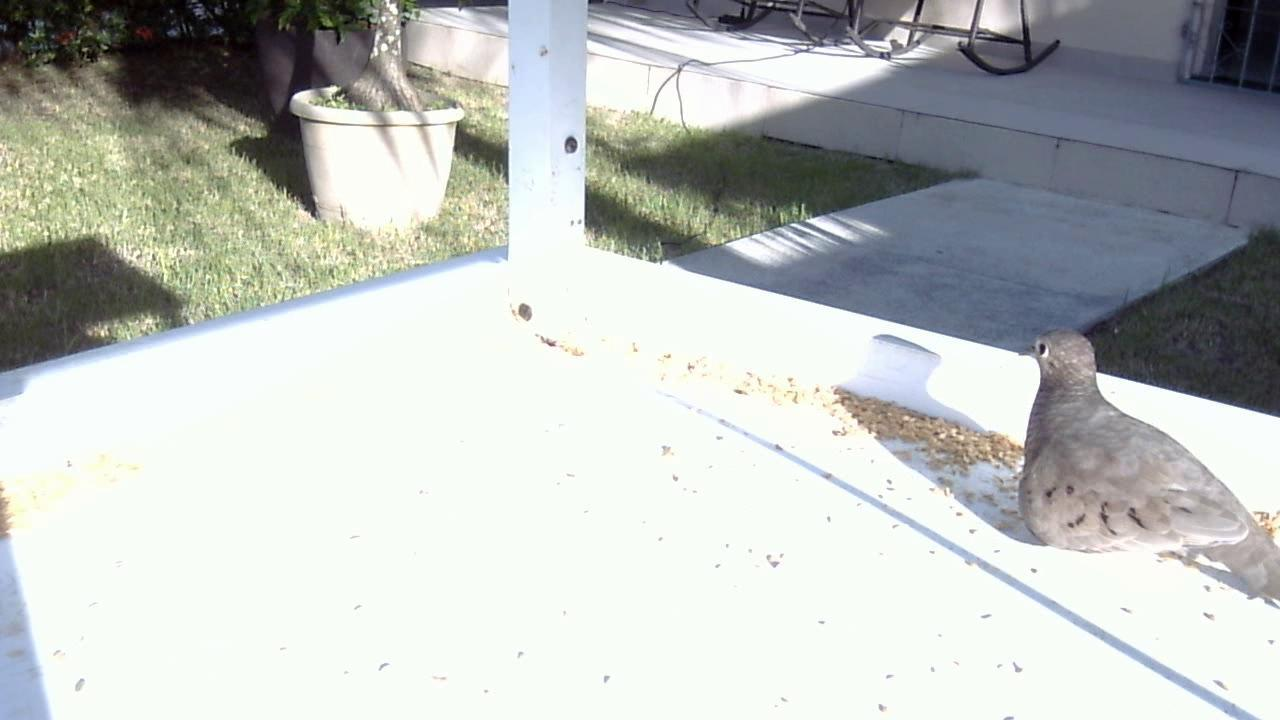rolinha: (1000, 305, 1280, 630)
